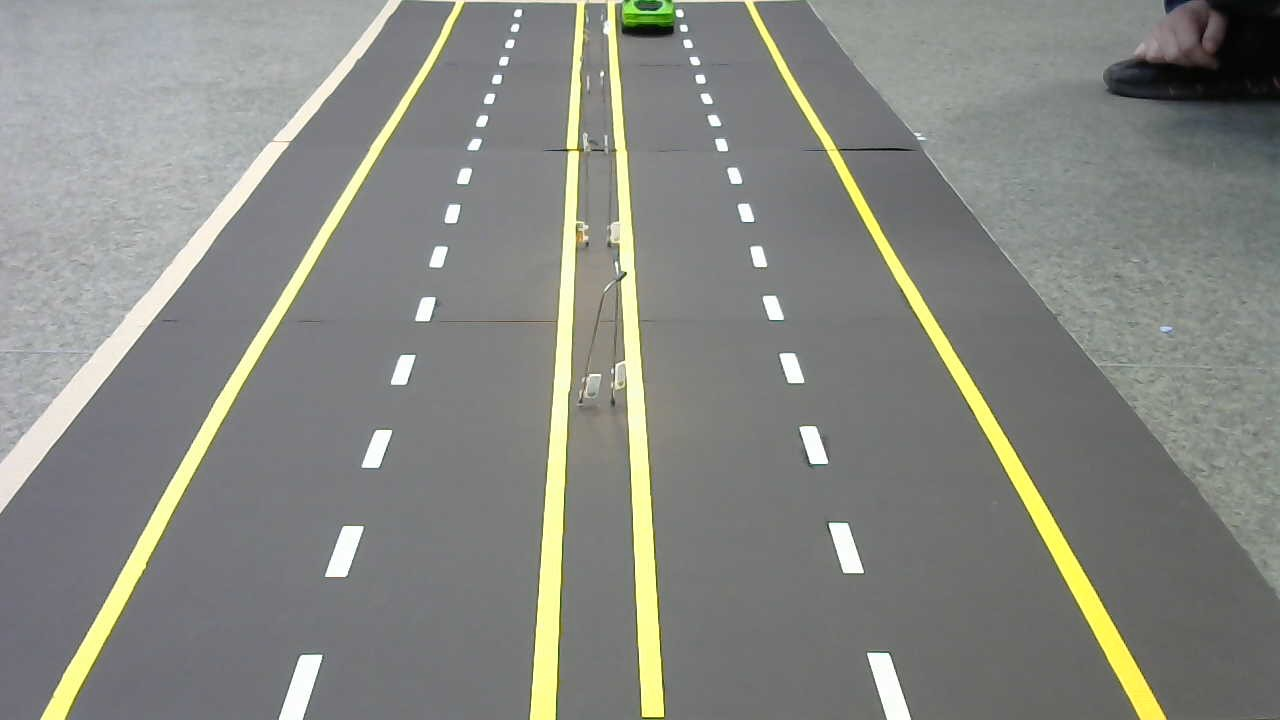back_car: (617, 1, 682, 35)
